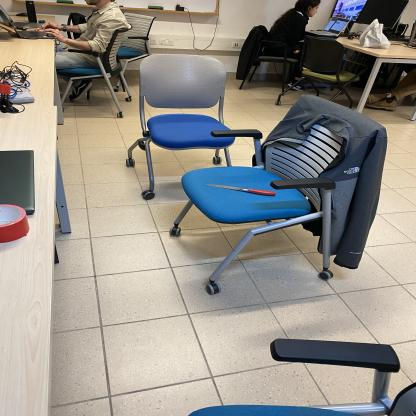Knife: (206, 183, 276, 197)
